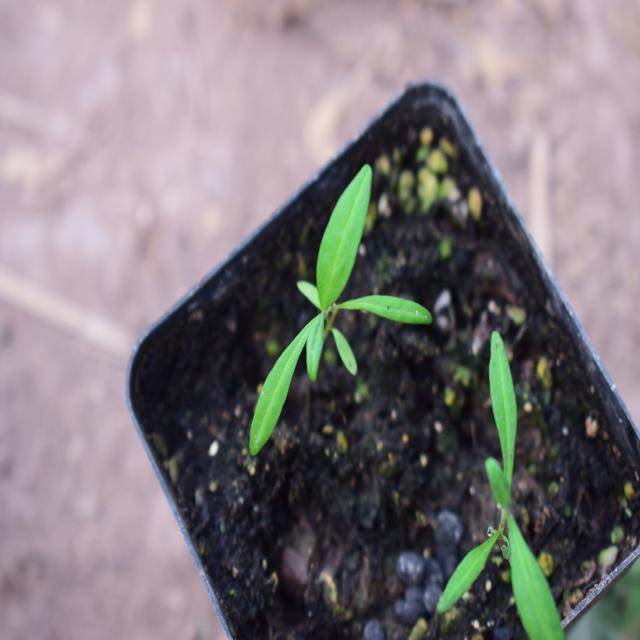white_smart_weed: (207, 170, 438, 456)
